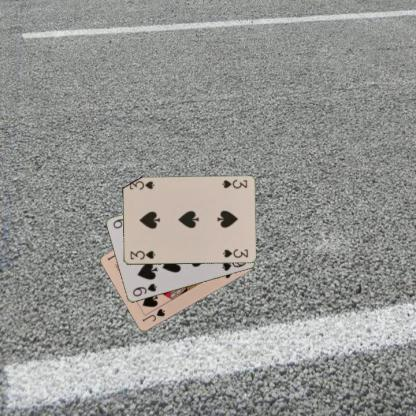3s: (127, 248, 156, 261), (219, 177, 248, 190)
9s: (130, 281, 158, 298)
Js: (140, 306, 166, 323)
